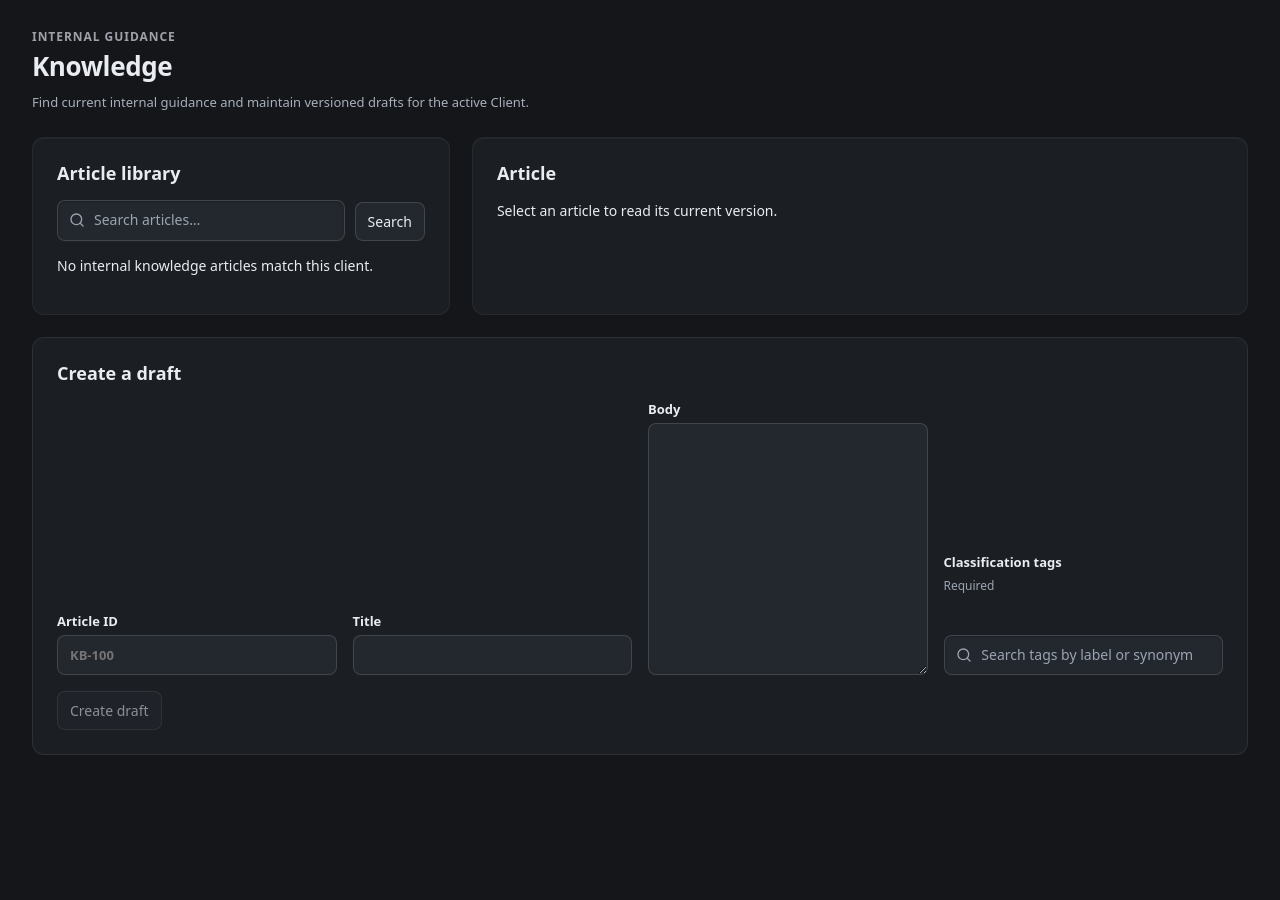
Test: retains a draft and focuses its picker when the selected tag becomes stale
Focus the dropdown labelled "Classification tags Required" at (1083, 655), box x1=944 y1=635 x2=1223 y2=676
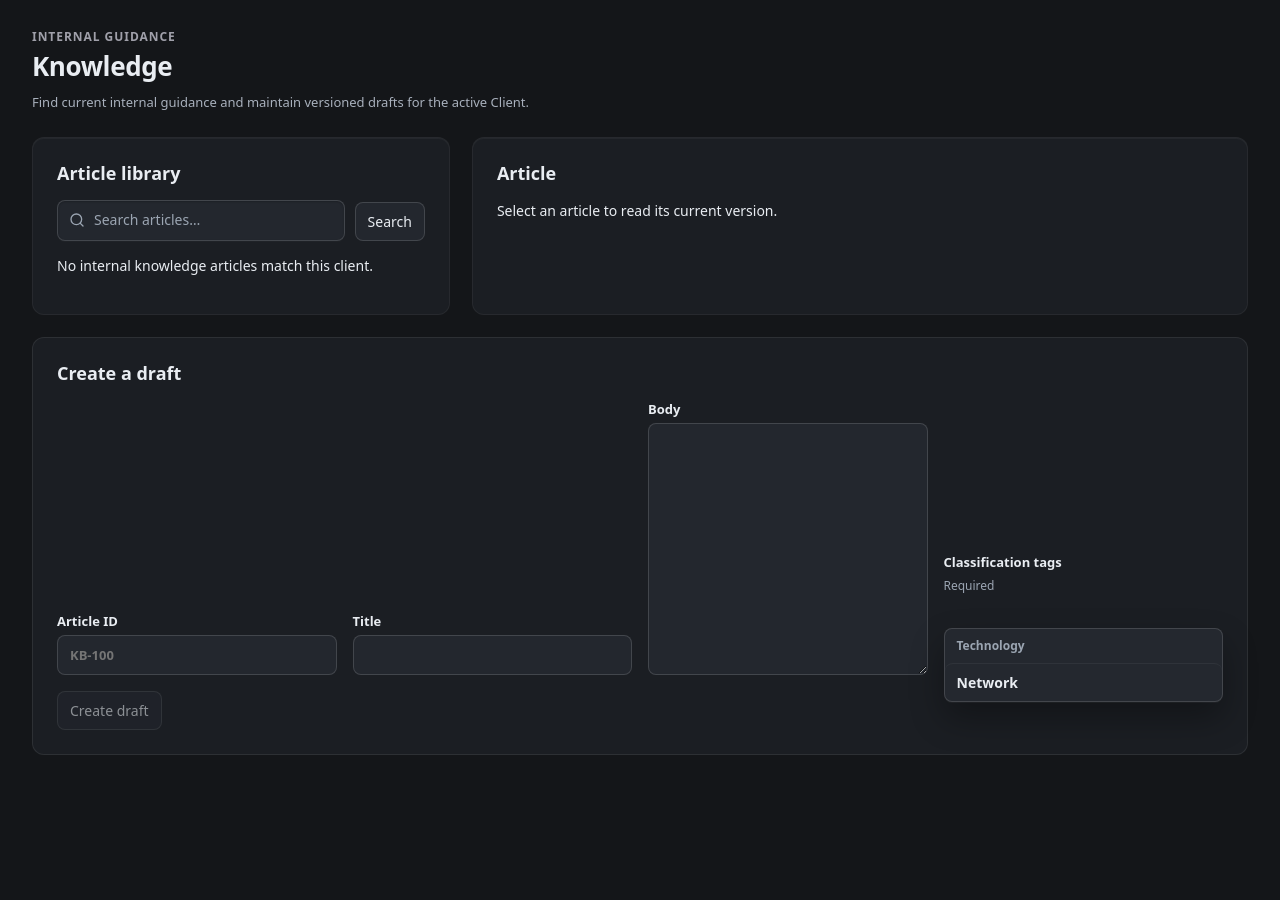
Click the option "Network" at (987, 683), box x1=944 y1=663 x2=1222 y2=701
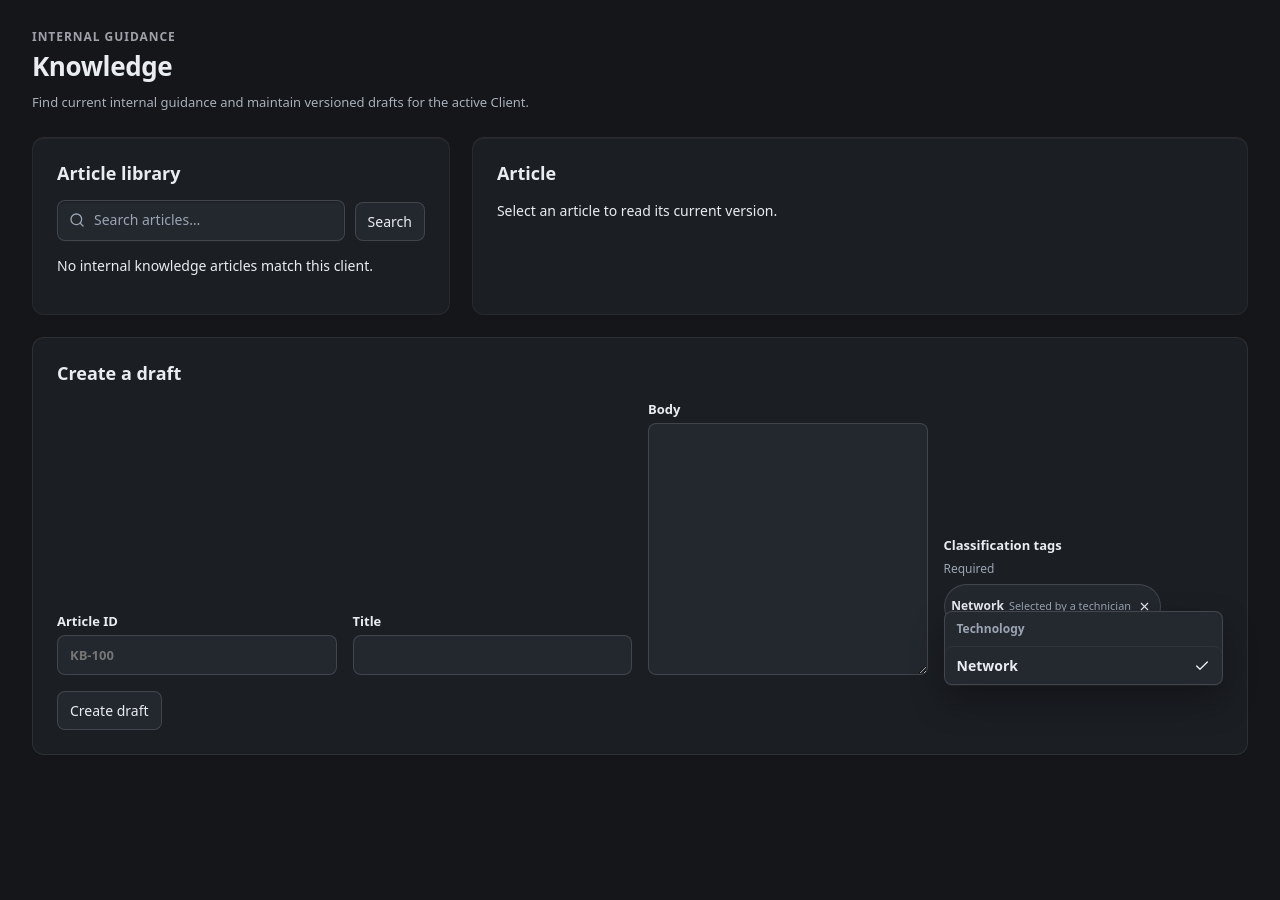
Type "KB-999" into the field labelled "Article ID" at (197, 656), box x1=57 y1=636 x2=336 y2=676
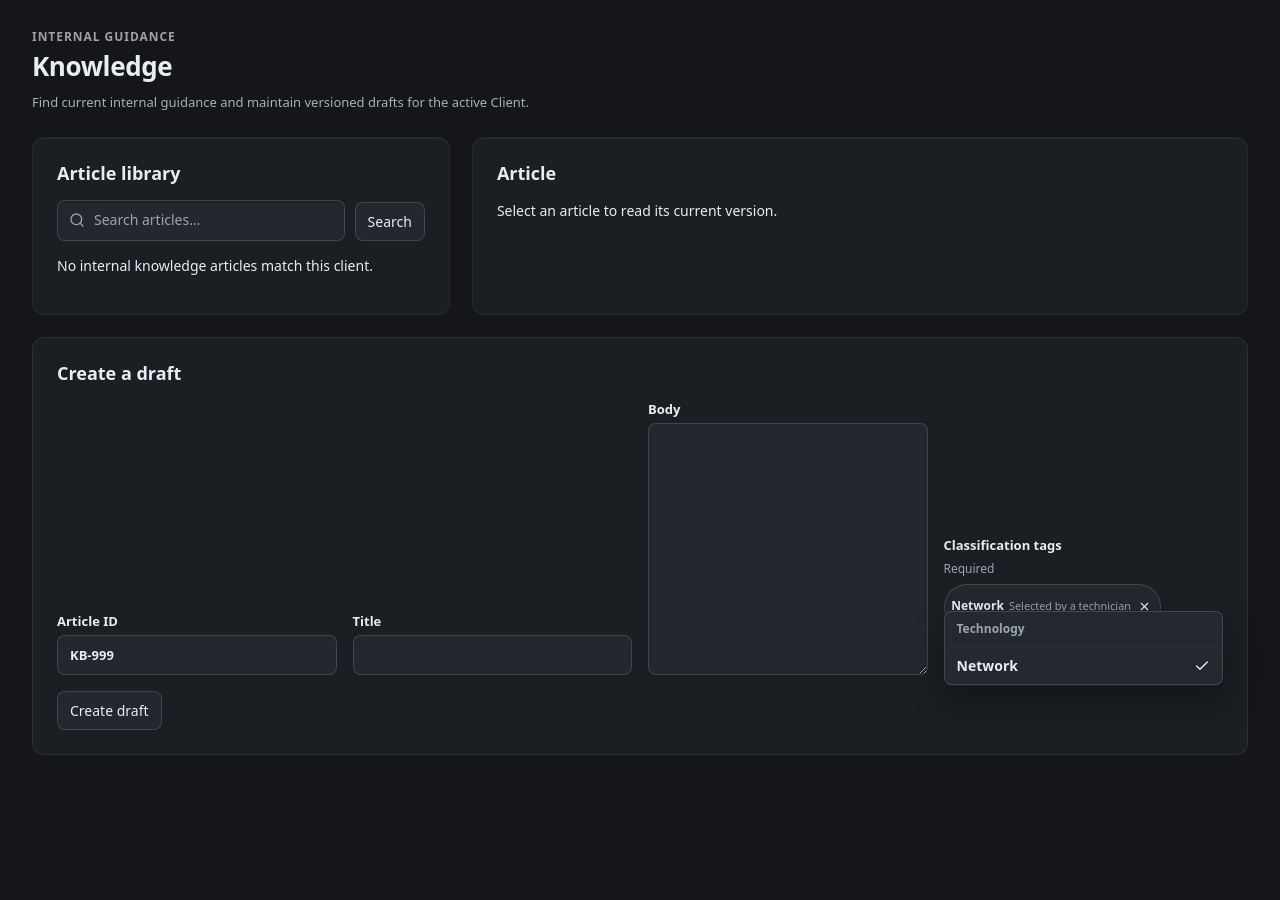
Type "Stale tag draft" into the field labelled "Title" at (492, 656), box x1=352 y1=636 x2=632 y2=676
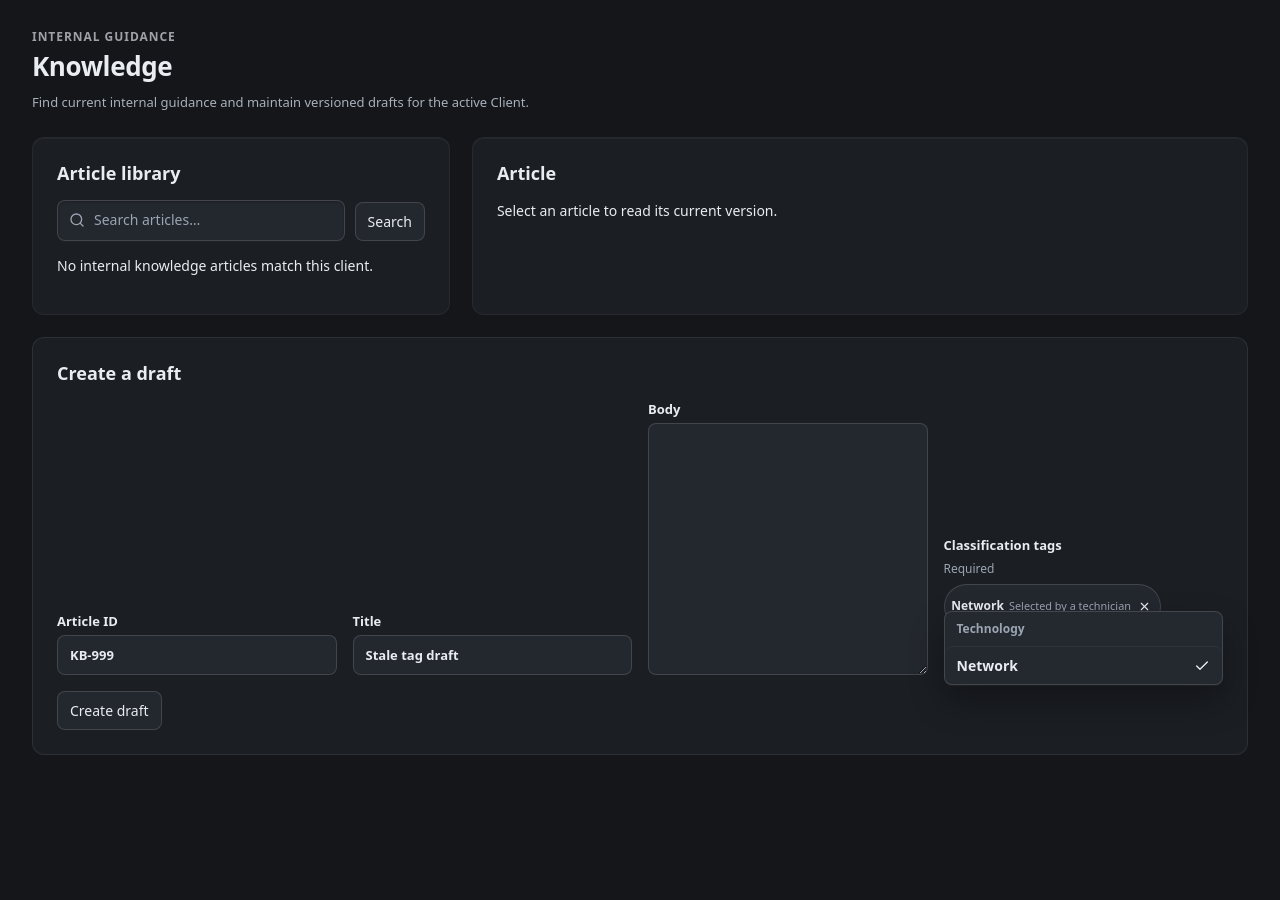
Type "Keep this body" into the text box labelled "Body" at (788, 550), box x1=648 y1=424 x2=928 y2=676
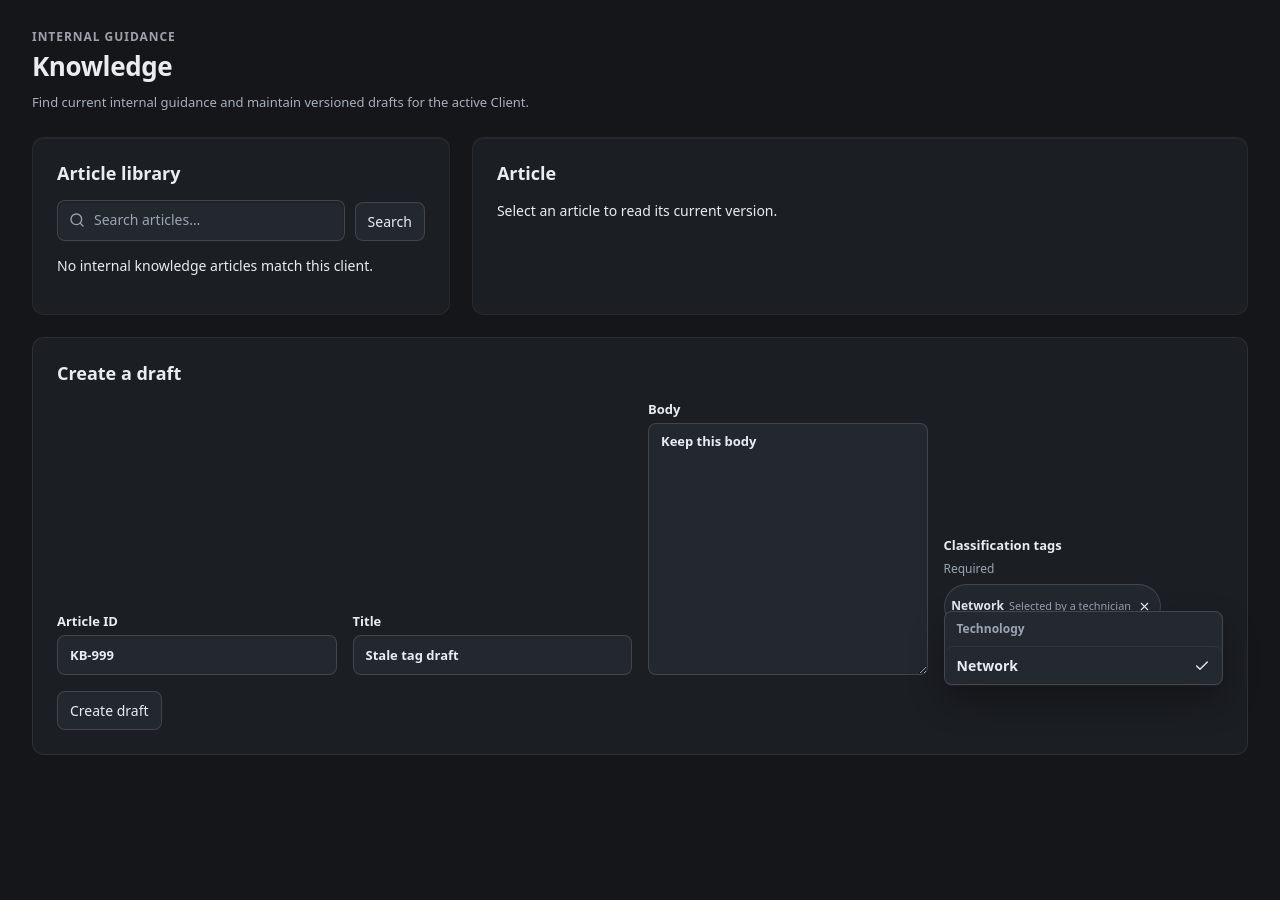
Click the button "Create draft" at (109, 711), box x1=57 y1=692 x2=162 y2=730
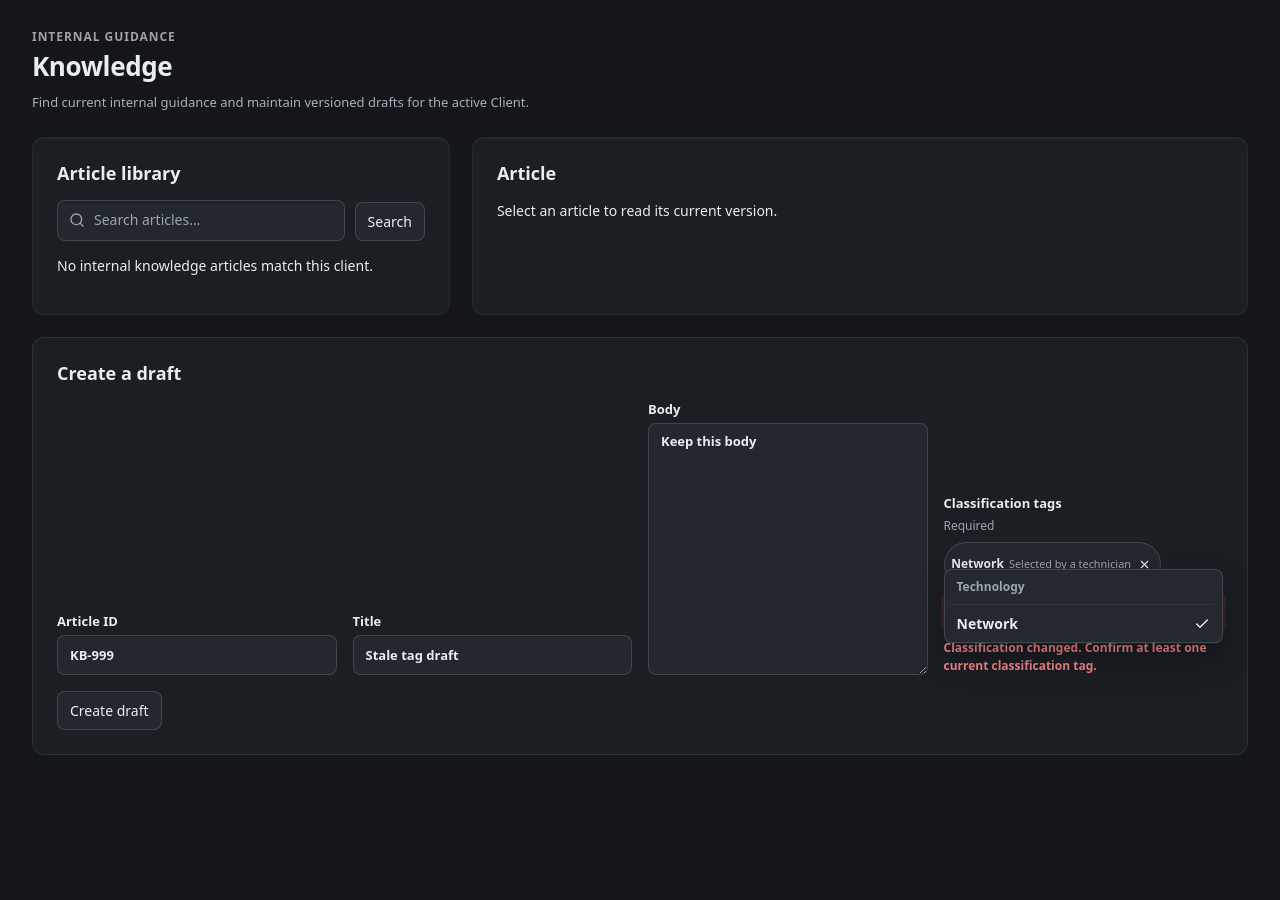
Check: the element named "Classification tags selections" shows "Network", box x1=951 y1=555 x2=1004 y2=572
Check: the text "Classification changed. Confirm at least one current classification tag." is shown, box x1=944 y1=640 x2=1223 y2=676
